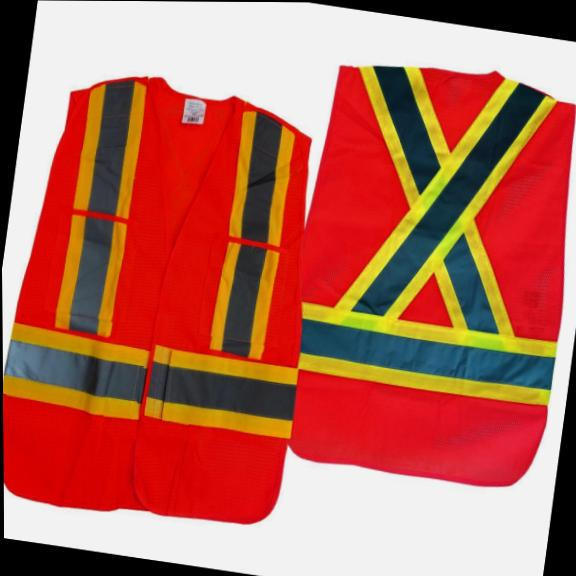safety_vest: (0, 56, 339, 541), (271, 56, 576, 499)
